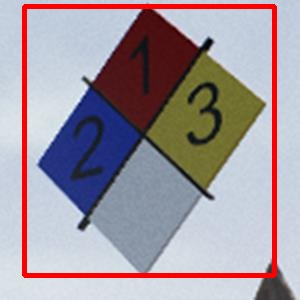nfpa: (24, 6, 274, 275)
